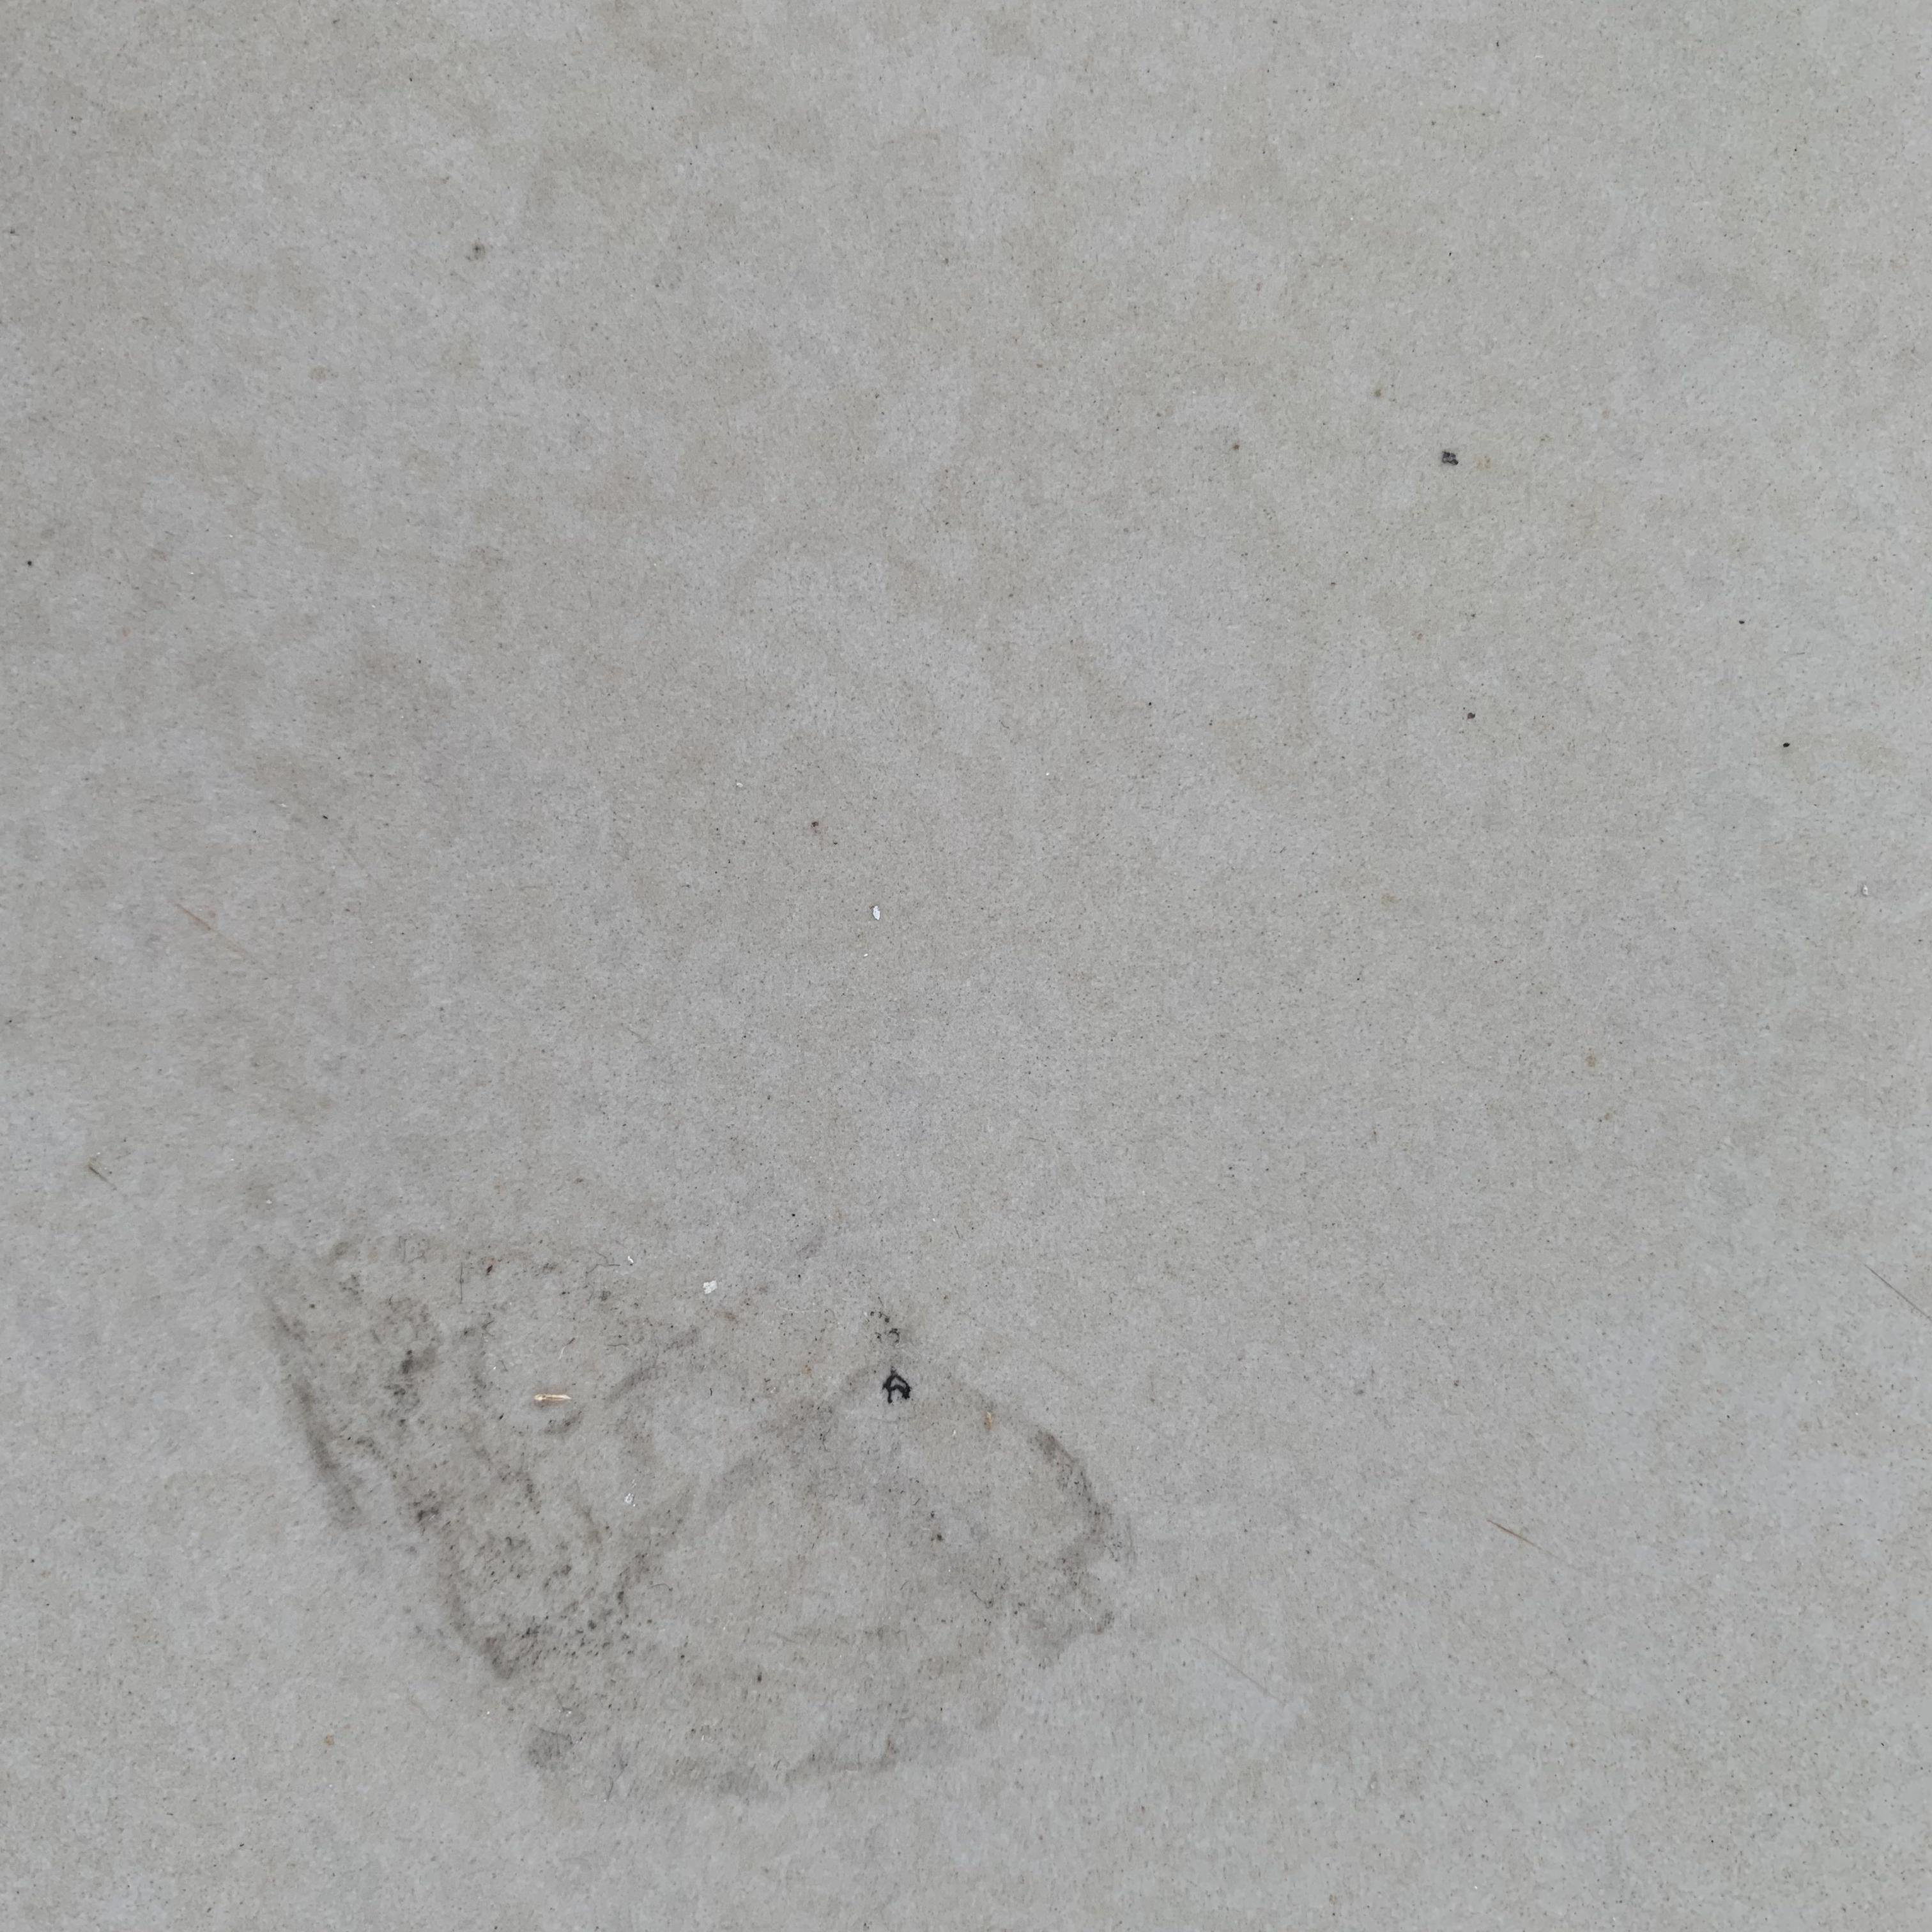grey spot: (255, 1231, 1139, 1794)
